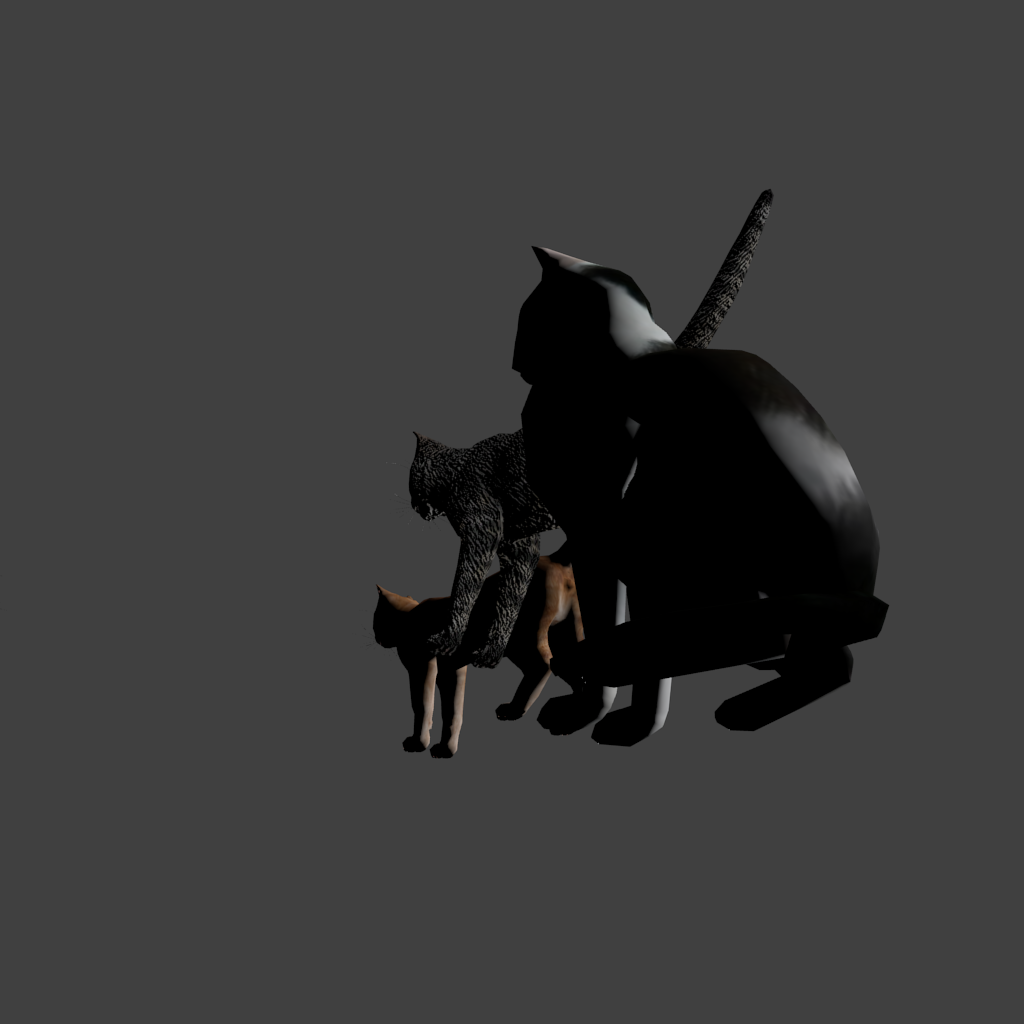Cat: (382, 189, 392, 481), (0, 291, 9, 429)
